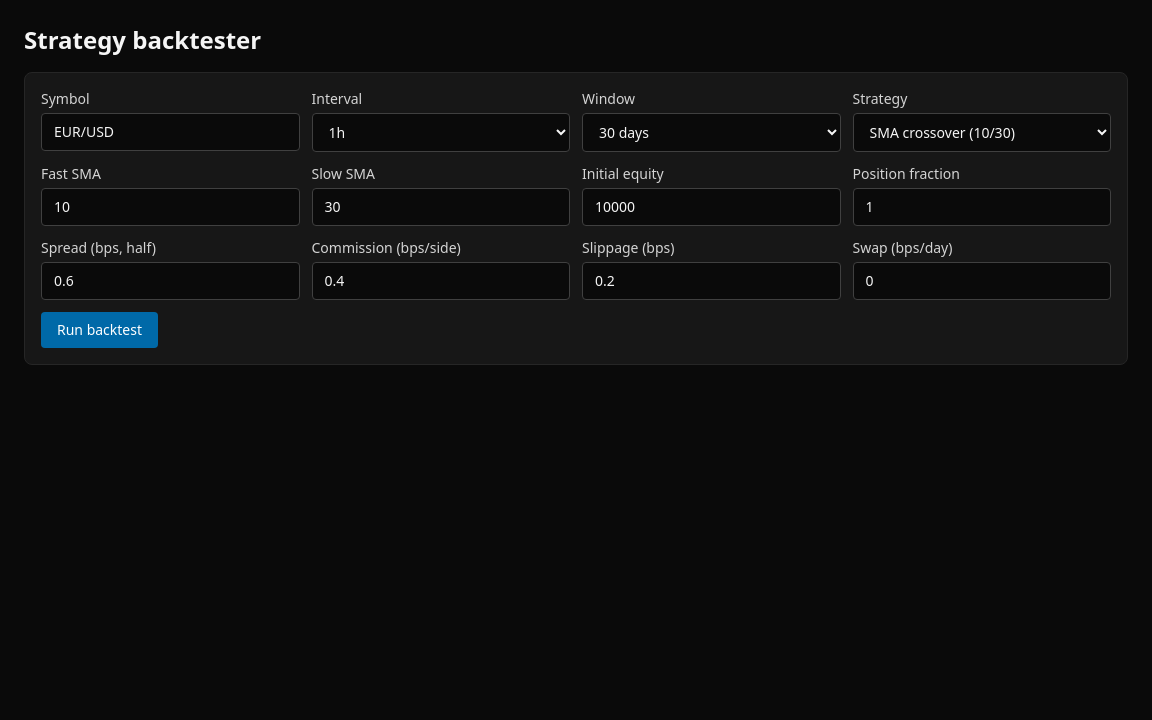
Test: BacktestPage › runs a preset over real klines and renders results + disclosures
Click the button "Run backtest": (100, 330) [41,312,158,348]
(page scrolled)
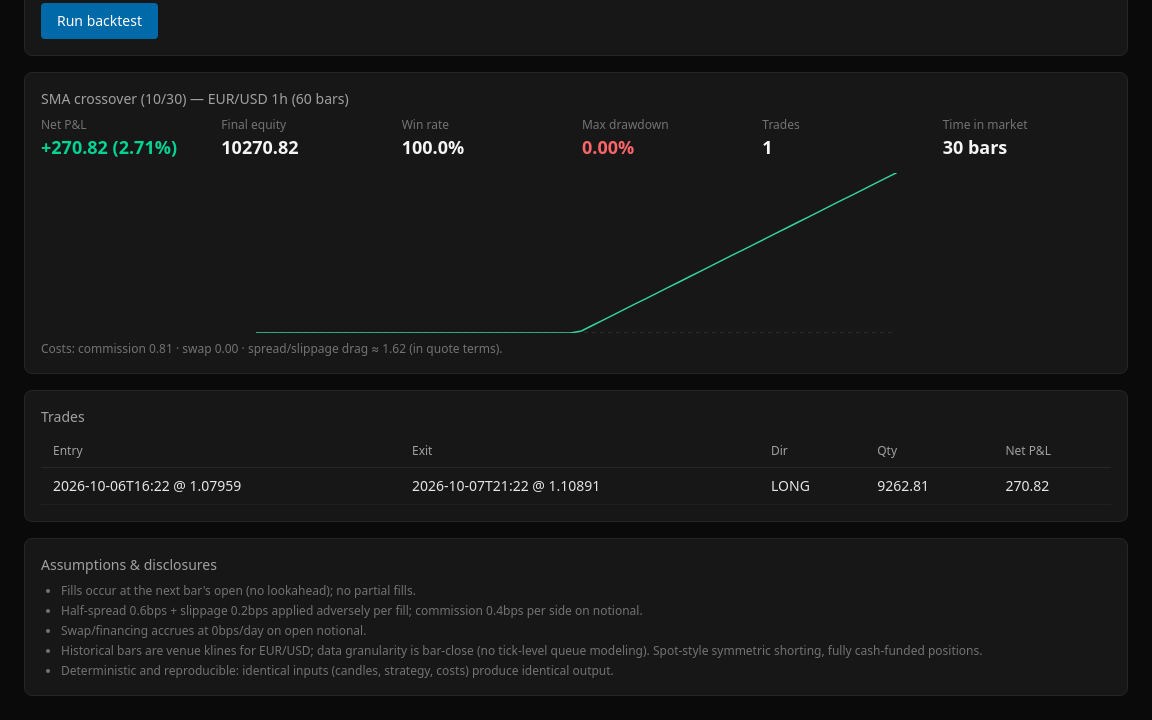
Result: the element with test id "backtest-result" is shown
Result: the text "Net P&L" is shown at [41,116,87,133]
Result: the text "Max drawdown" is shown at [582,116,669,133]
